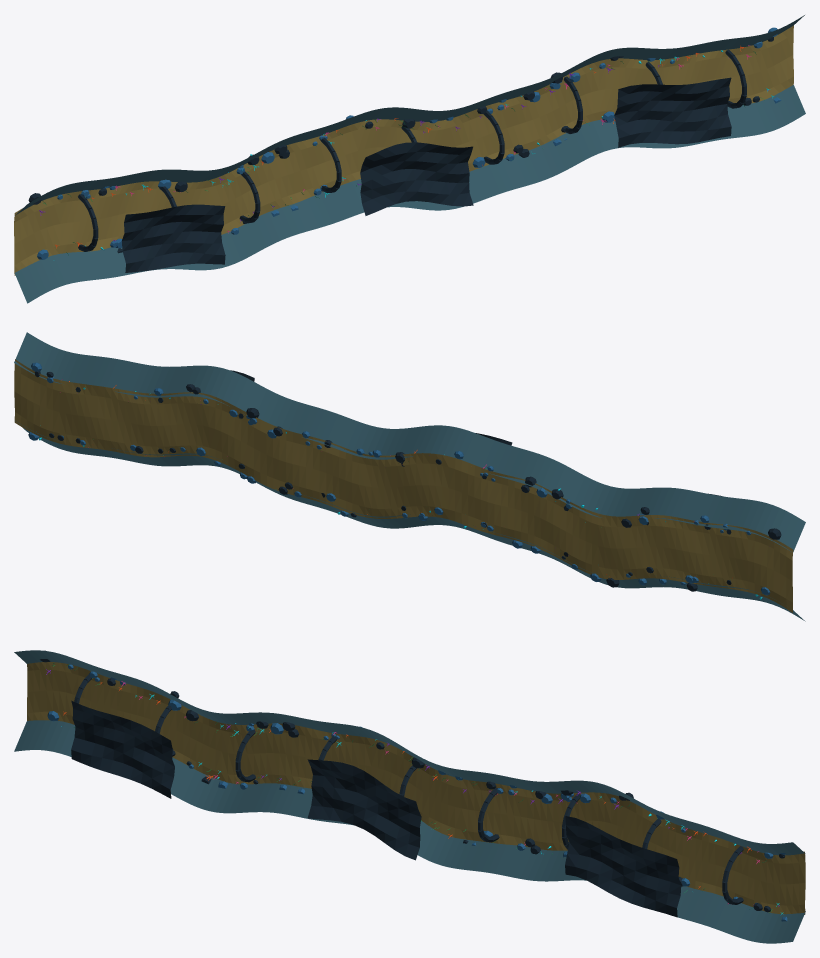
The model's file is waterlevel.obj.
The picture shows the model from 3 angles, top to bottom: view 1: azimuth 30°, elevation 25°; view 2: azimuth 150°, elevation 25°; view 3: azimuth 330°, elevation 25°; orthographic projection.
Visible parts, largest first — view 1: TERRAIN_MAIN, TERRAIN_WALLS, CAVES_AND_ARCHES, ROCKS_LIGHT, ROCKS_DARK; view 2: TERRAIN_MAIN, TERRAIN_WALLS, ROCKS_LIGHT, ROCKS_DARK, CAVES_AND_ARCHES; view 3: TERRAIN_MAIN, TERRAIN_WALLS, CAVES_AND_ARCHES, ROCKS_LIGHT, ROCKS_DARK.
Boxes of the visible parts, x1=… form: TERRAIN_MAIN: x1=14, y1=25, x2=793, y2=275; TERRAIN_WALLS: x1=14, y1=15, x2=805, y2=303; CAVES_AND_ARCHES: x1=78, y1=50, x2=746, y2=272; ROCKS_LIGHT: x1=37, y1=27, x2=781, y2=259; ROCKS_DARK: x1=28, y1=37, x2=773, y2=253; TERRAIN_MAIN: x1=14, y1=359, x2=793, y2=612; TERRAIN_WALLS: x1=14, y1=332, x2=805, y2=621; ROCKS_LIGHT: x1=28, y1=362, x2=770, y2=595; ROCKS_DARK: x1=34, y1=371, x2=781, y2=591; CAVES_AND_ARCHES: x1=75, y1=370, x2=731, y2=584; TERRAIN_MAIN: x1=27, y1=662, x2=805, y2=914; TERRAIN_WALLS: x1=14, y1=650, x2=805, y2=943; CAVES_AND_ARCHES: x1=71, y1=673, x2=743, y2=917; ROCKS_LIGHT: x1=47, y1=664, x2=787, y2=921; ROCKS_DARK: x1=40, y1=650, x2=785, y2=912.
Bounding box in the file's own units: 180 × 27.2 × 14.8.
